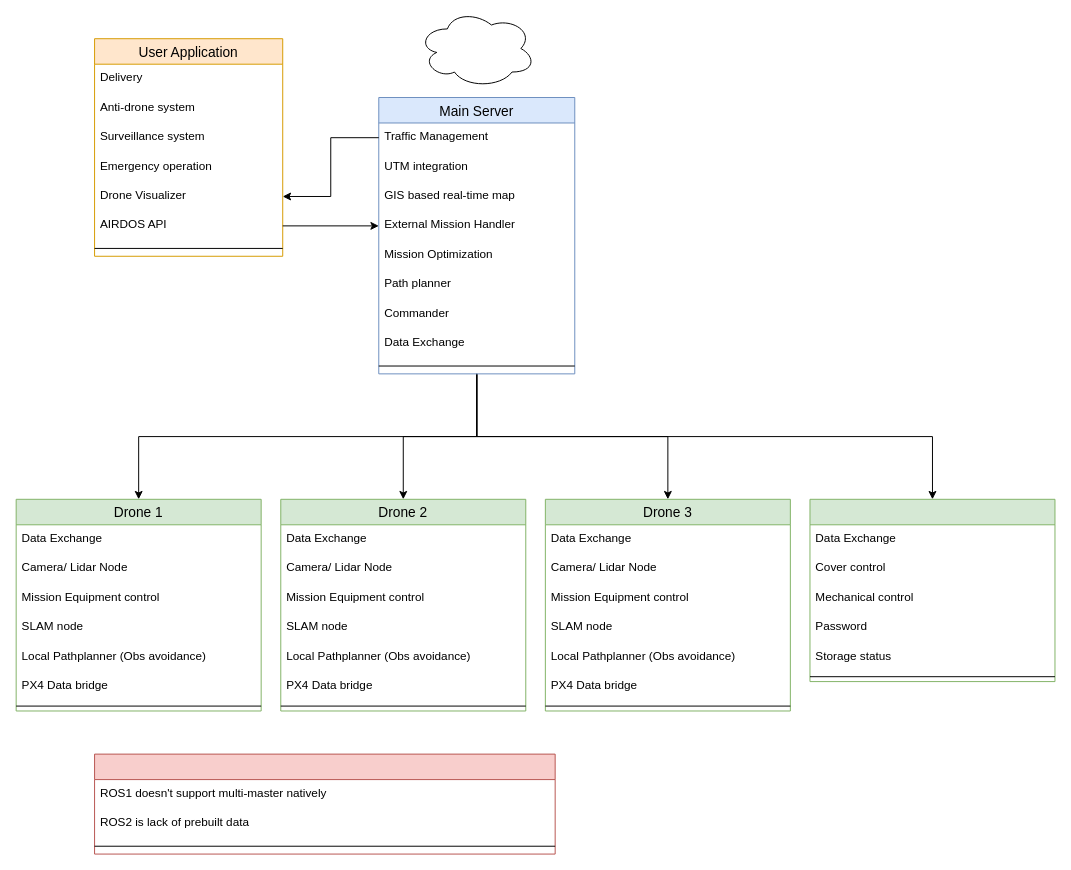
Some shapes in this 1071 by 870 pixel diagram are drawn without their labels. Here are the shapes that lost their labels. From the top down, the box of each, then its label:
(809, 498, 1055, 682): Station
(94, 753, 555, 854): Consideration
